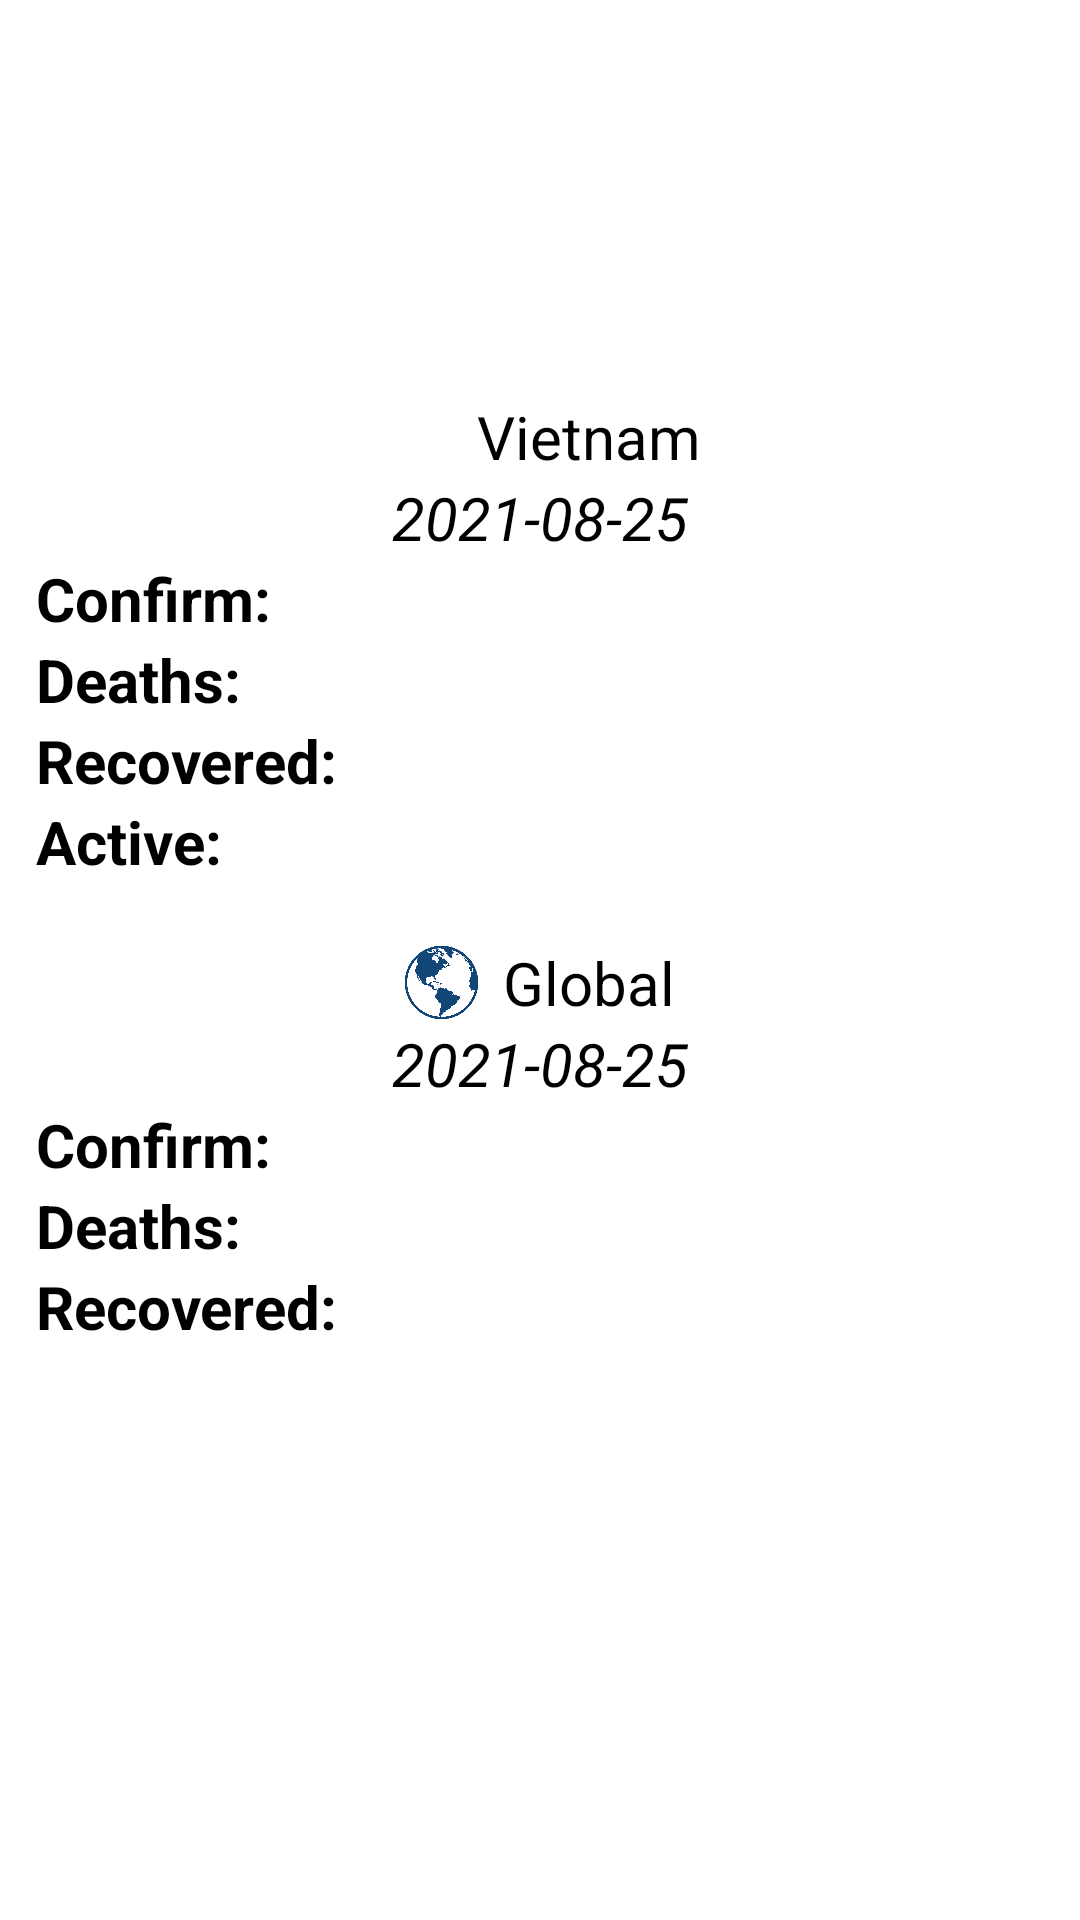

Screen size 1080x1920. Icon name, then its box in pixels as (x1, y1, x2, y2):
world: (405, 946, 478, 1019)
